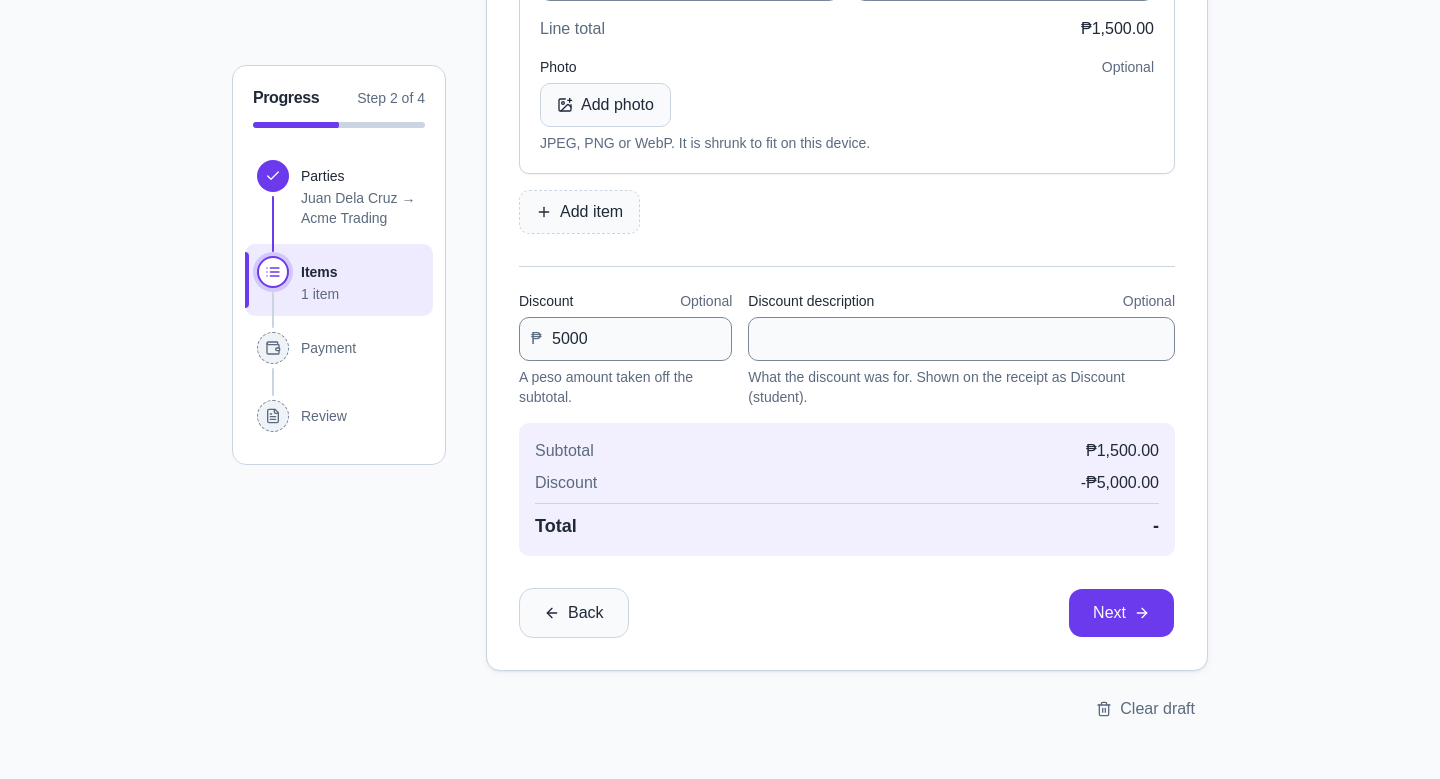
Scenario: Items step › rejects a discount over the subtotal and never shows a negative total
This screenshot has width=1440, height=779.
(page scrolled)
Click the button "Next": click(1122, 613) [1068,588,1175,638]
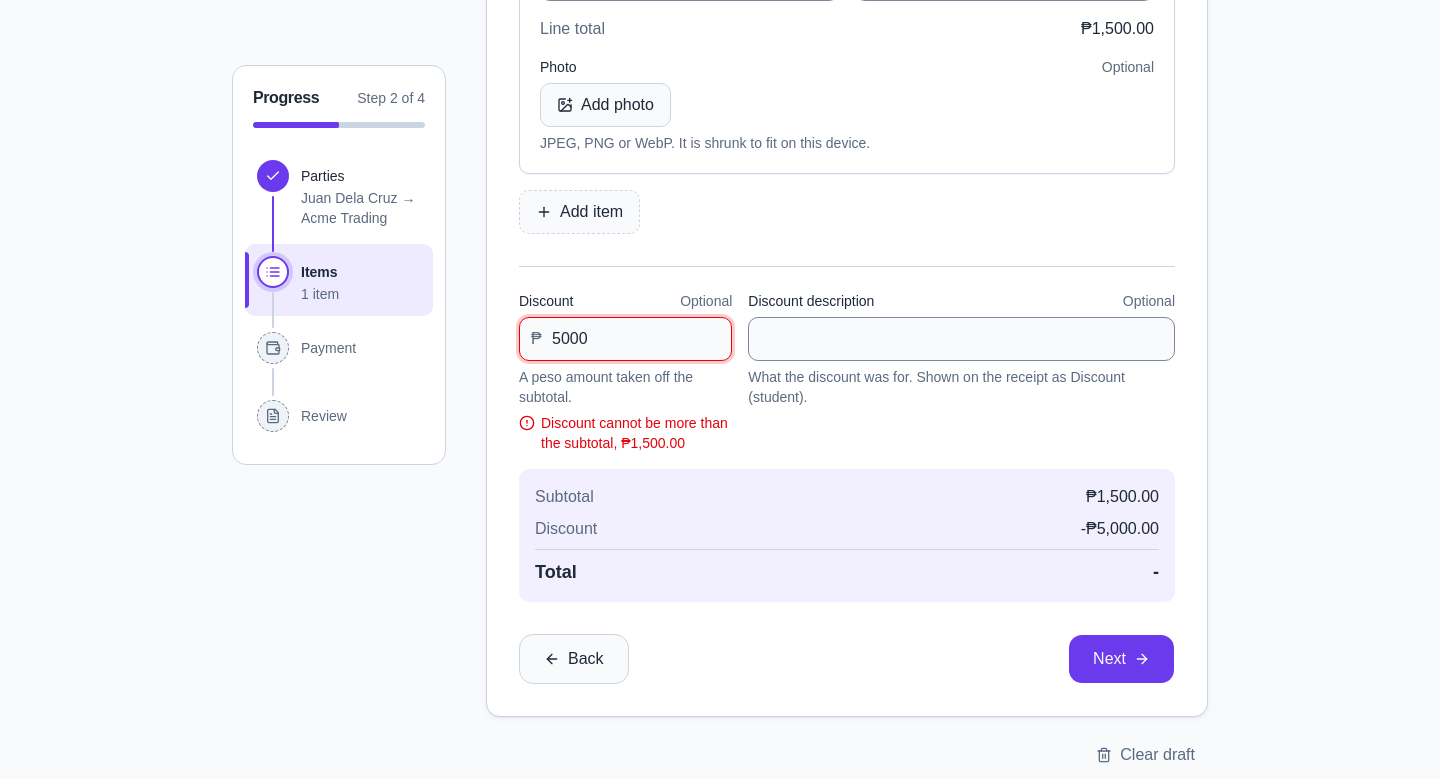
Expected: the text "Total" shows "-", [1153,562,1159,582]
Expected: the text "Discount cannot be more than the subtotal, ₱1,500.00" is shown, [541,413,732,453]
